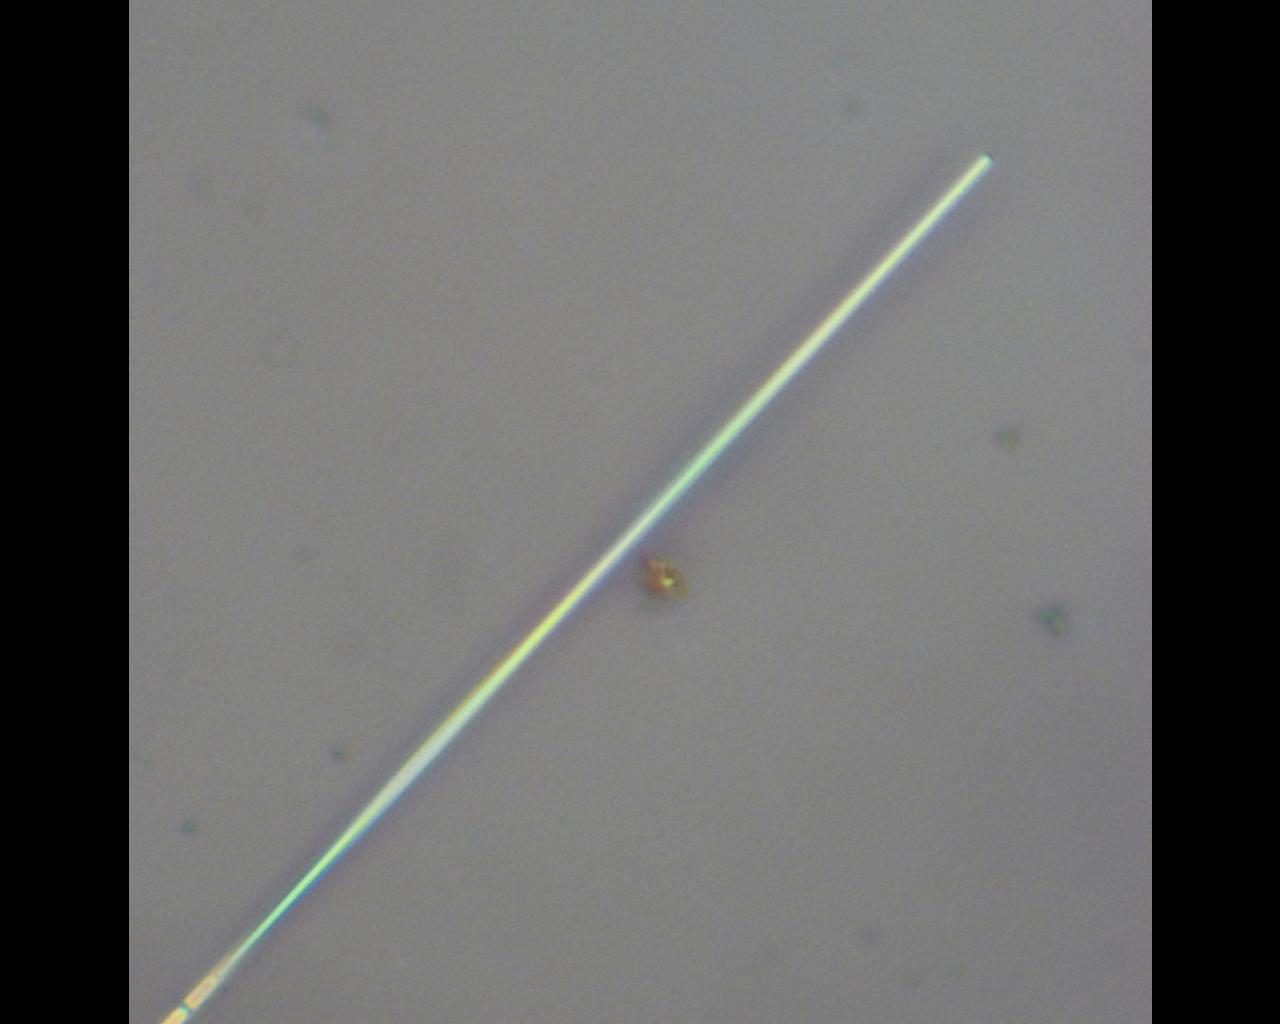fiber: (160, 148, 995, 1024)
